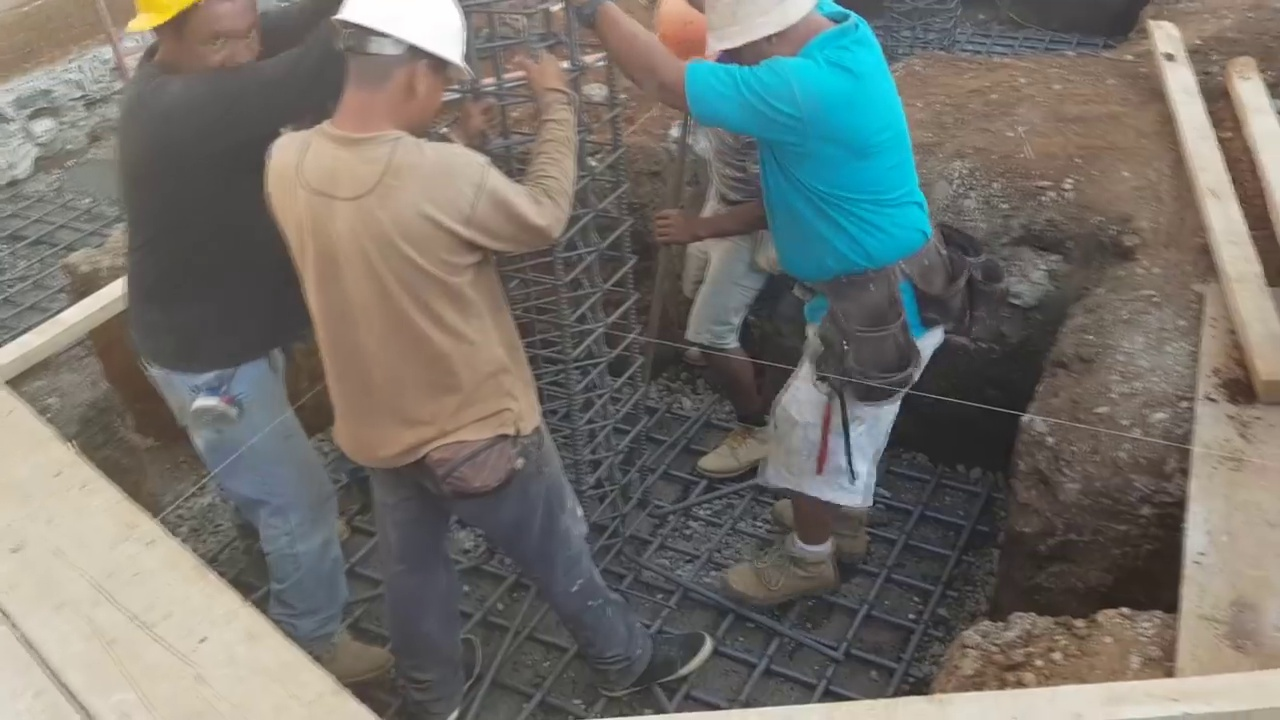helmet: (333, 0, 482, 82)
helmet-off: (718, 0, 847, 71)
helmet-on: (319, 0, 466, 133), (108, 0, 295, 79)
person: (260, 1, 718, 716), (584, 0, 953, 616), (113, 17, 394, 688), (649, 14, 792, 487)
